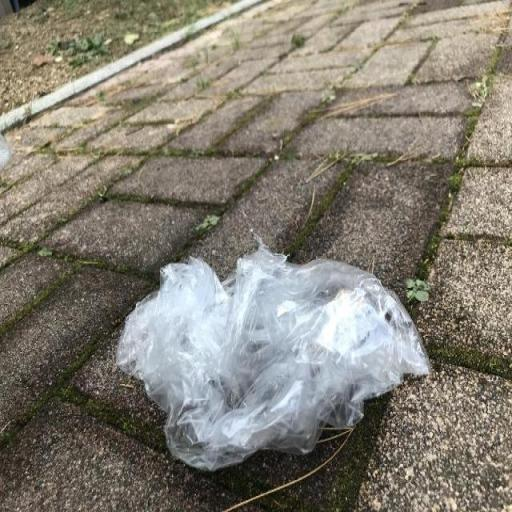plastic-bag: (104, 239, 434, 479)
